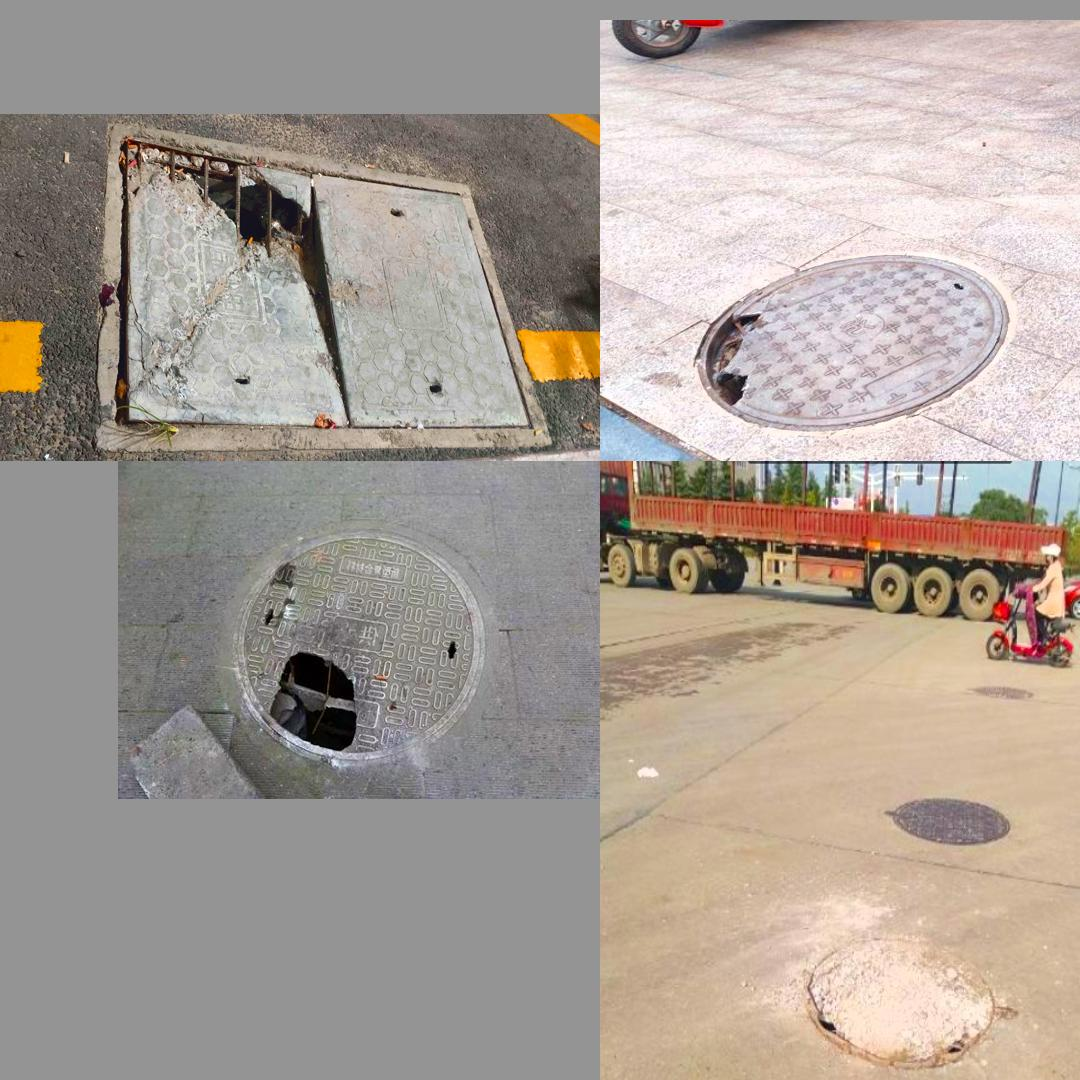broke: (94, 123, 554, 451), (224, 516, 495, 764), (691, 255, 1002, 423), (806, 937, 1014, 1068)
good: (884, 795, 1012, 848)
